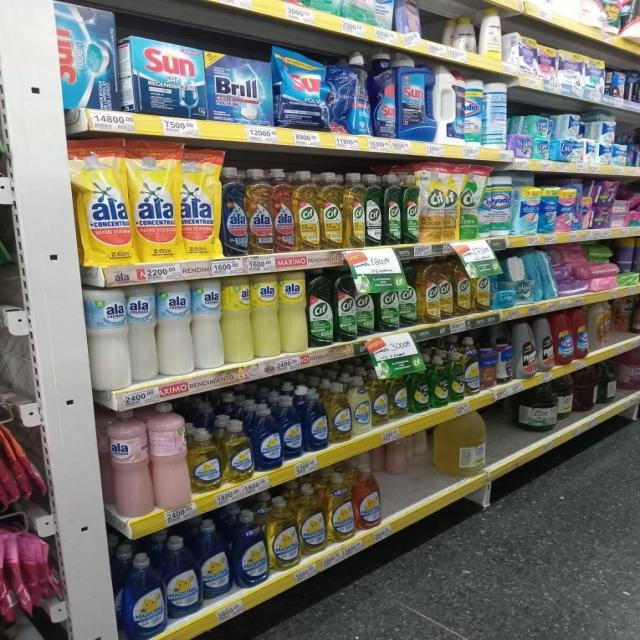ala_conc_amarillo: (248, 168, 272, 255)
ala_conc_azul: (221, 166, 247, 258)
ala_conc_rojo: (272, 168, 294, 254)
ala_crem_amarillo: (223, 275, 251, 364), (279, 270, 307, 354), (252, 272, 279, 359)
ala_crem_blanco: (157, 279, 192, 377), (128, 281, 157, 383), (192, 277, 222, 371)
ala_crem_rosado: (108, 408, 150, 518)
ala_sachet_amarillo: (77, 137, 132, 266), (132, 140, 179, 262), (180, 147, 220, 260)
cif_conc_bot_amarilla: (294, 170, 319, 251), (320, 171, 343, 250), (344, 172, 365, 248), (418, 259, 439, 324), (472, 260, 491, 313), (454, 258, 471, 316), (439, 258, 454, 320)
cif_conc_botella_verde: (308, 267, 333, 347), (334, 266, 355, 342), (376, 268, 398, 332), (384, 173, 401, 246), (402, 172, 419, 244), (356, 268, 374, 336), (366, 173, 382, 247), (399, 263, 417, 327)
cif_conc_sachet_amarillo: (420, 163, 444, 243), (444, 164, 460, 242)
cif_conc_sachet_verde: (460, 163, 480, 240)
magistral_con_amarillo: (268, 494, 298, 572), (326, 470, 354, 543), (298, 482, 326, 554), (223, 418, 251, 484), (328, 382, 350, 444), (351, 376, 370, 436), (464, 336, 480, 396), (388, 373, 408, 419), (371, 373, 388, 426)
magistral_con_azul: (121, 551, 164, 640), (233, 508, 266, 589), (166, 535, 198, 618), (200, 518, 230, 600), (253, 401, 280, 471), (303, 388, 328, 452), (280, 394, 302, 460)
